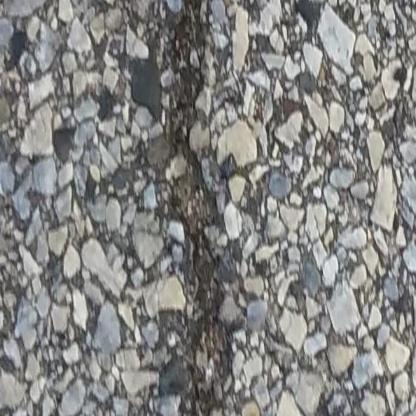Cracks: (165, 0, 232, 416)
